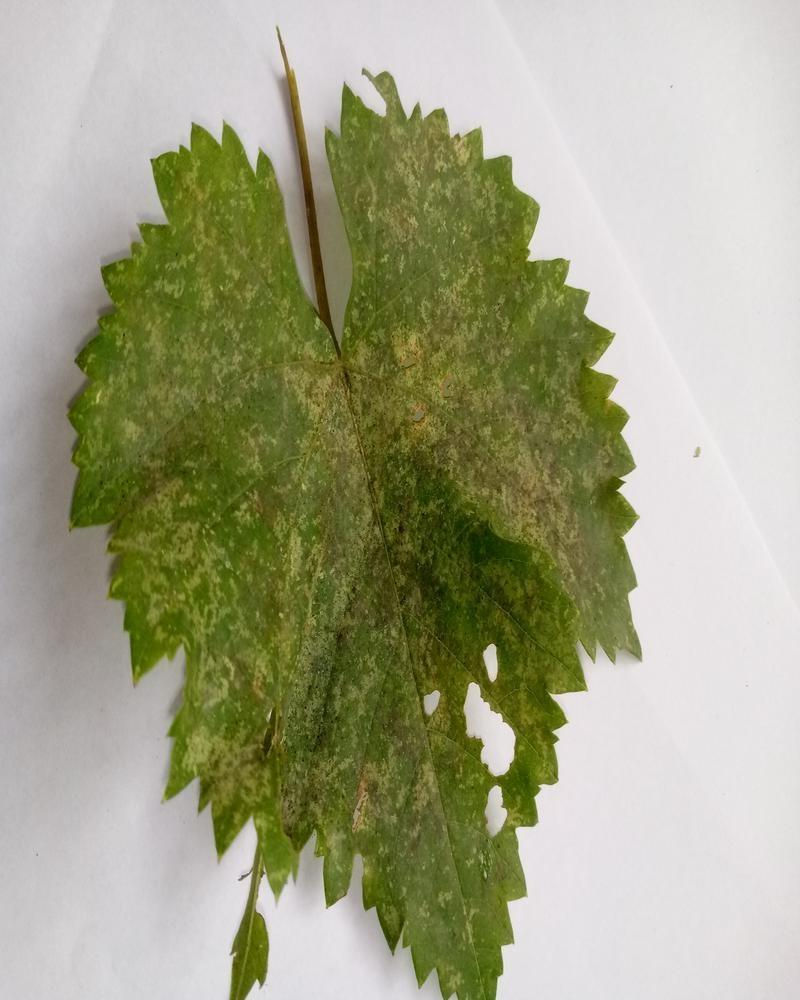Powdery-Mildew: (354, 293, 615, 604), (109, 154, 279, 446), (253, 375, 423, 666), (353, 112, 502, 267), (277, 736, 437, 862), (175, 651, 266, 817)
